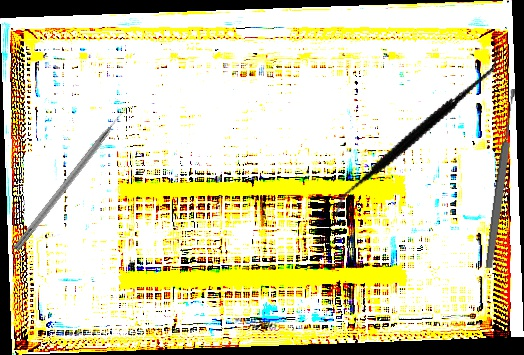Hook Surgical: (12, 103, 132, 253)
Spatula Surgical: (332, 17, 501, 246)
Surgical Spoon: (483, 88, 520, 269)
